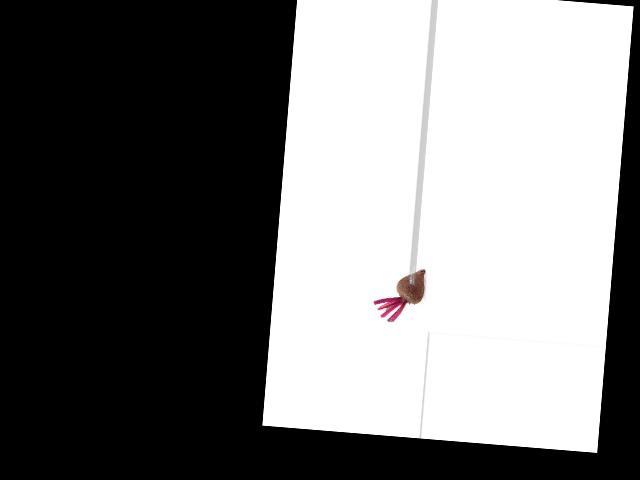beet: (372, 265, 426, 324)
